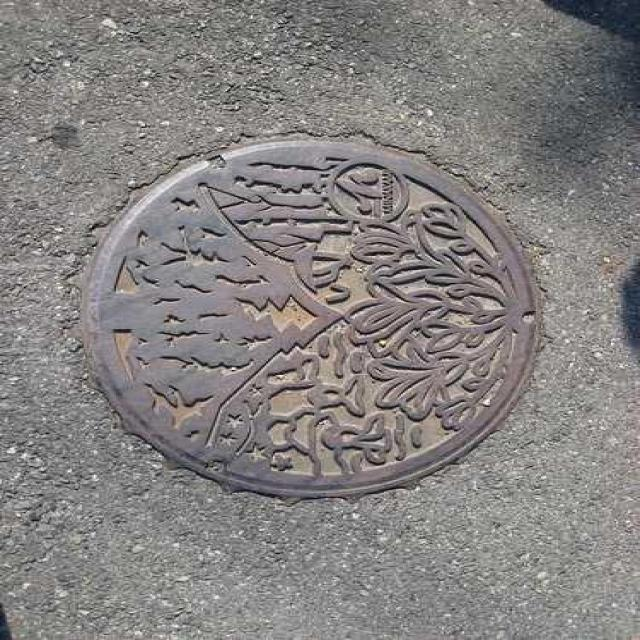manhole: (77, 137, 543, 502)
